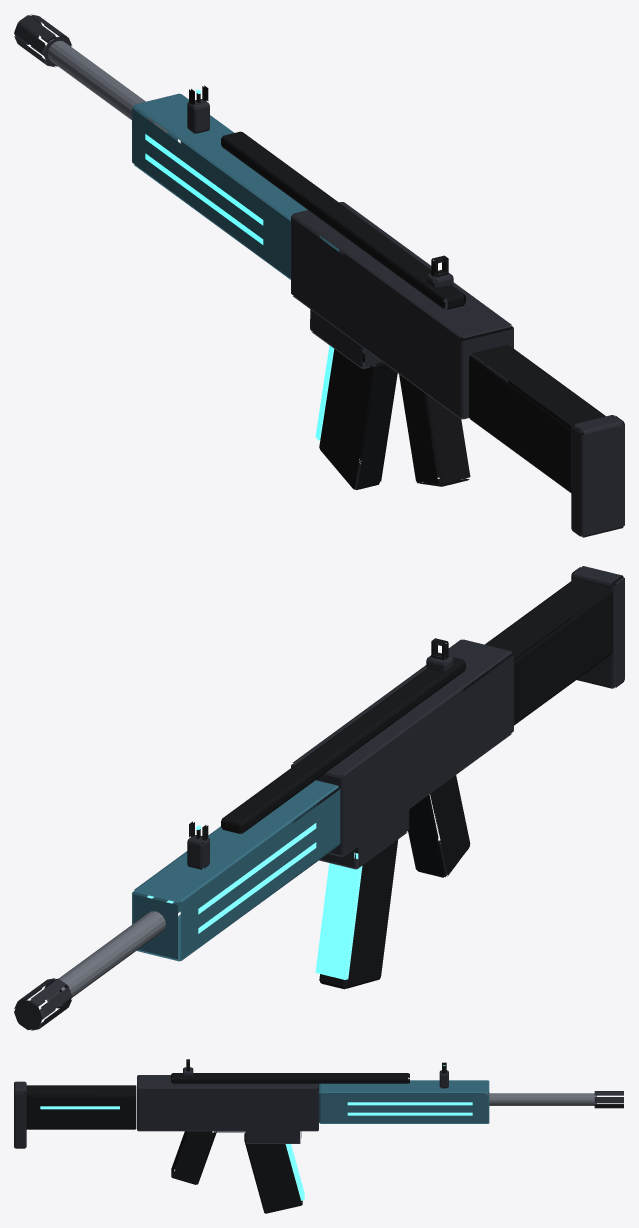
3 renders of one model, top to bottom at view 1: azimuth 30°, elevation 25°; view 2: azimuth 150°, elevation 25°; view 3: azimuth 270°, elevation 25°, orthographic. The views are drawn at different scales.
Visible parts, largest first — view 1: Body, Magazine, IronSights; view 2: Body, Magazine, IronSights; view 3: Body, Magazine, IronSights.
Boxes of the visible parts, x1,y1,x2,y2 form: Body: (14, 14, 624, 537); Magazine: (315, 345, 397, 489); IronSights: (187, 85, 453, 289); Body: (14, 566, 624, 1030); Magazine: (315, 839, 398, 989); IronSights: (187, 638, 453, 869); Body: (14, 1073, 623, 1184); Magazine: (244, 1133, 304, 1213); IronSights: (183, 1059, 448, 1088).
Size of the model in its own units: 0.058 by 0.2905 by 1.07.
